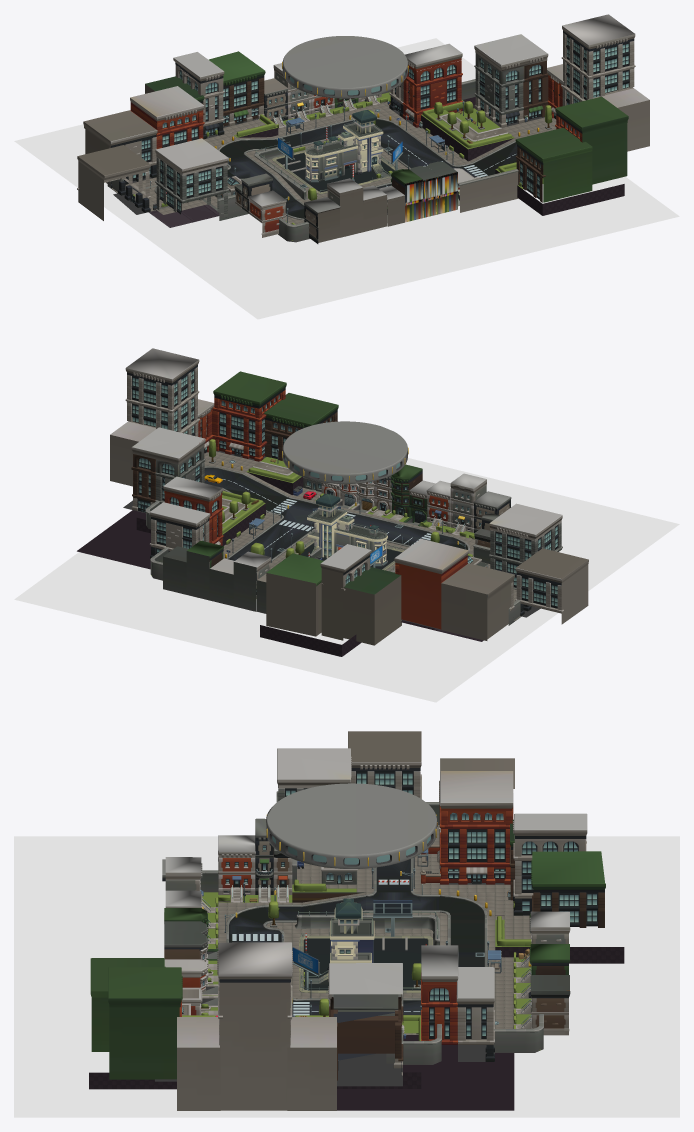
Rendered from map_op.glb.
3 views of the same model, one above another, from view 1: azimuth 30°, elevation 25°; view 2: azimuth 150°, elevation 25°; view 3: azimuth 270°, elevation 25° (orthographic). The views are drawn at different scales.
Parts seen in each view (by area): view 1: Object_22, Object_56, UFO_33, Object_67, Object_21, Object_23; view 2: Object_22, Object_56, UFO_33, Object_23, Object_67, Object_21; view 3: Object_22, Object_56, UFO_33, Object_23, Object_21, Object_67.
Part boxes in pixels (x1,y1,x2,y2): Object_22: (77,14,649,243); Object_56: (14,38,679,319); UFO_33: (282,36,408,98); Object_67: (166,110,399,194); Object_21: (111,102,556,224); Object_23: (148,97,624,227); Object_22: (110,348,588,645); Object_56: (14,445,679,702); UFO_33: (282,421,408,484); Object_23: (77,472,483,656); Object_67: (294,494,405,571); Object_21: (204,451,520,620); Object_22: (90,731,605,1110); Object_56: (14,836,679,1117); UFO_33: (266,783,436,868); Object_23: (89,829,624,1110); Object_21: (218,825,531,1034); Object_67: (298,879,437,993).
Bounding box in the file's own units: 166 × 39.36 × 144.
7 materials, 7 textured.
